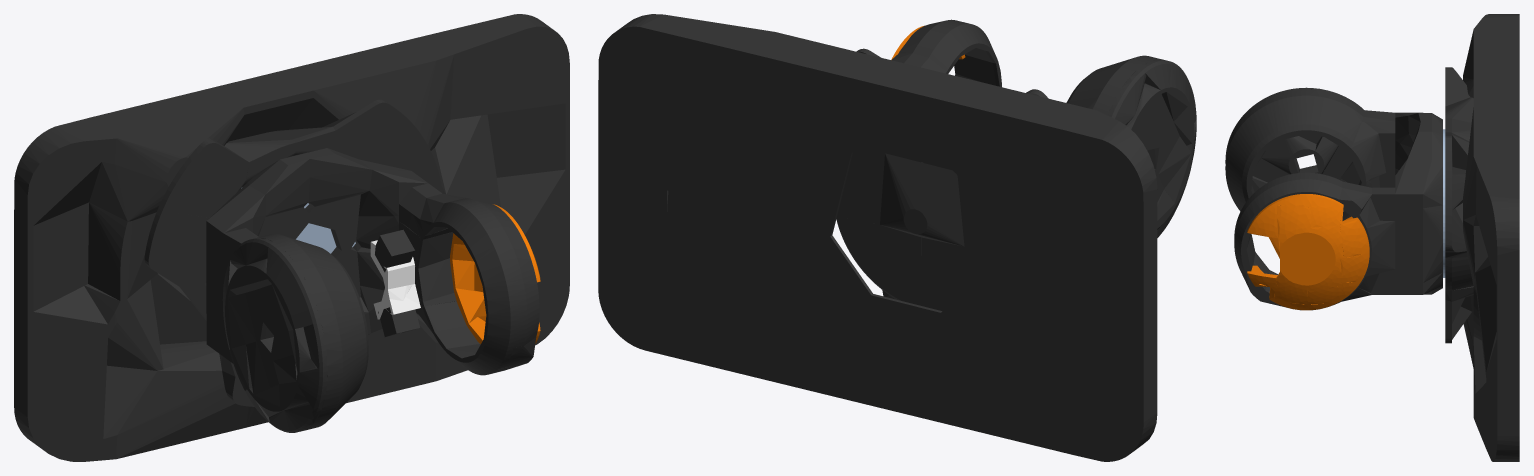
The model's file is RLEG_LINK5_mesh.dae.
3 views of the same model, side by side, from view 1: azimuth 30°, elevation 25°; view 2: azimuth 150°, elevation 25°; view 3: azimuth 270°, elevation 25° (orthographic). The views are drawn at different scales.
Visible parts, largest first — view 1: RLEG_LINK5 (×11); view 2: RLEG_LINK5 (×5); view 3: RLEG_LINK5 (×8).
Boxes of the visible parts, left/top/right/bottom form: RLEG_LINK5 (×11): left=14, top=14, right=569, bottom=461; RLEG_LINK5 (×5): left=598, top=14, right=1196, bottom=461; RLEG_LINK5 (×8): left=1225, top=14, right=1519, bottom=461.
Size of the model in its own units: 0.23 by 0.13 by 0.1325.
